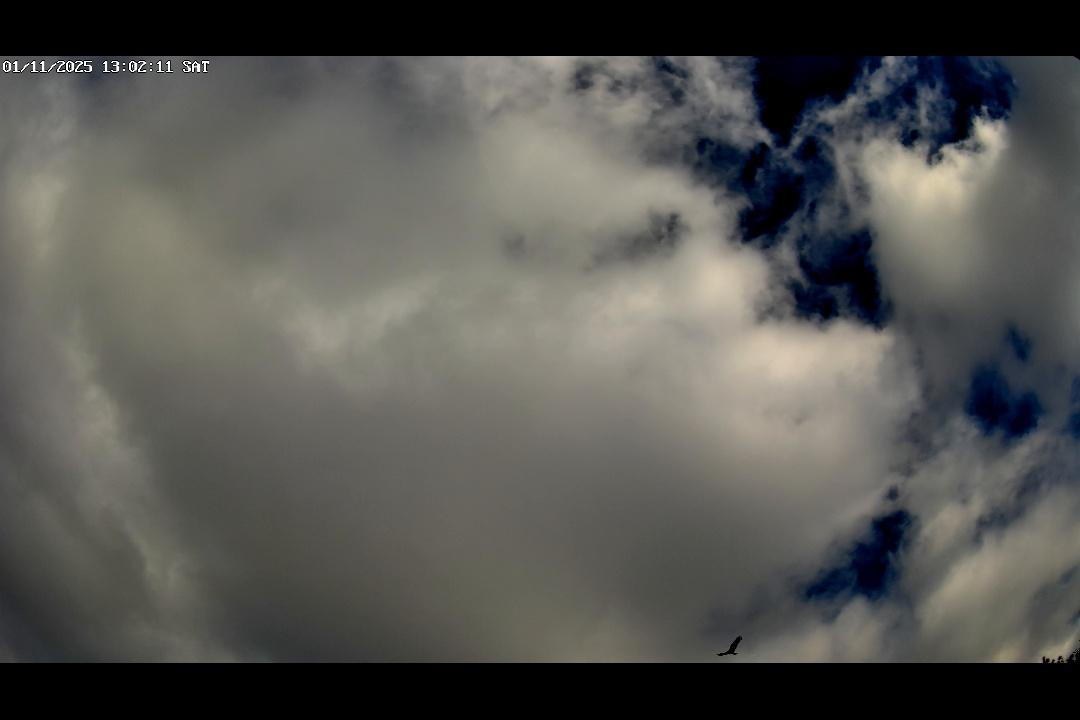WildLife: (705, 630, 755, 661)
